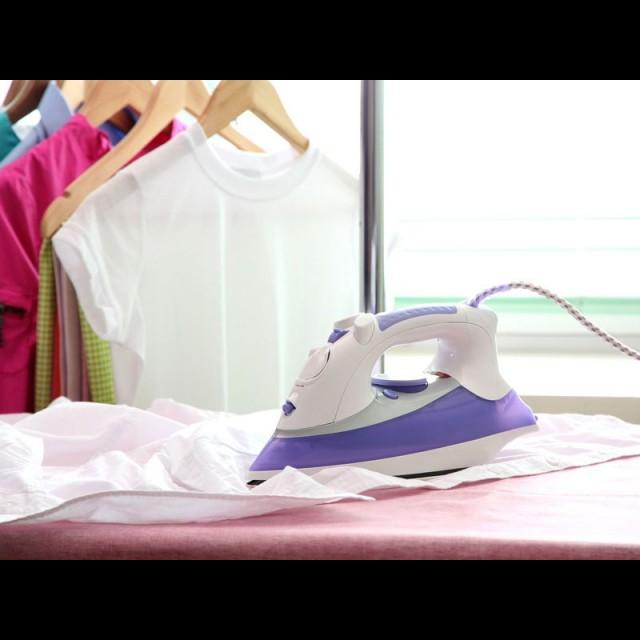Clothes-Iron: (238, 272, 544, 498)
